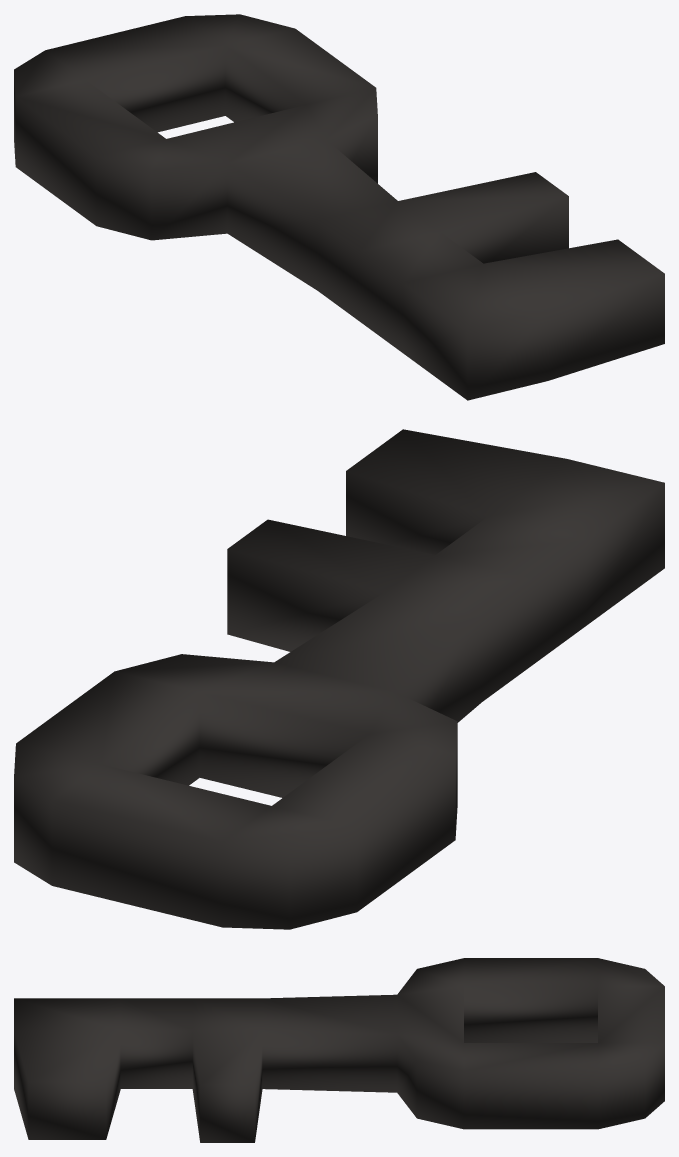
The model's file is key_iron.fbx.
3 views of the same model, one above another, from view 1: azimuth 30°, elevation 25°; view 2: azimuth 150°, elevation 25°; view 3: azimuth 270°, elevation 25° (orthographic). The views are drawn at different scales.
Parts seen in each view (by area): view 1: key_iron; view 2: key_iron; view 3: key_iron.
Part boxes in pixels (bbox=[...]): key_iron: bbox=[14, 14, 664, 400]; key_iron: bbox=[14, 429, 664, 929]; key_iron: bbox=[14, 958, 664, 1142].
Bounding box in the file's own units: 0.1407 × 0.0301 × 0.3056.
